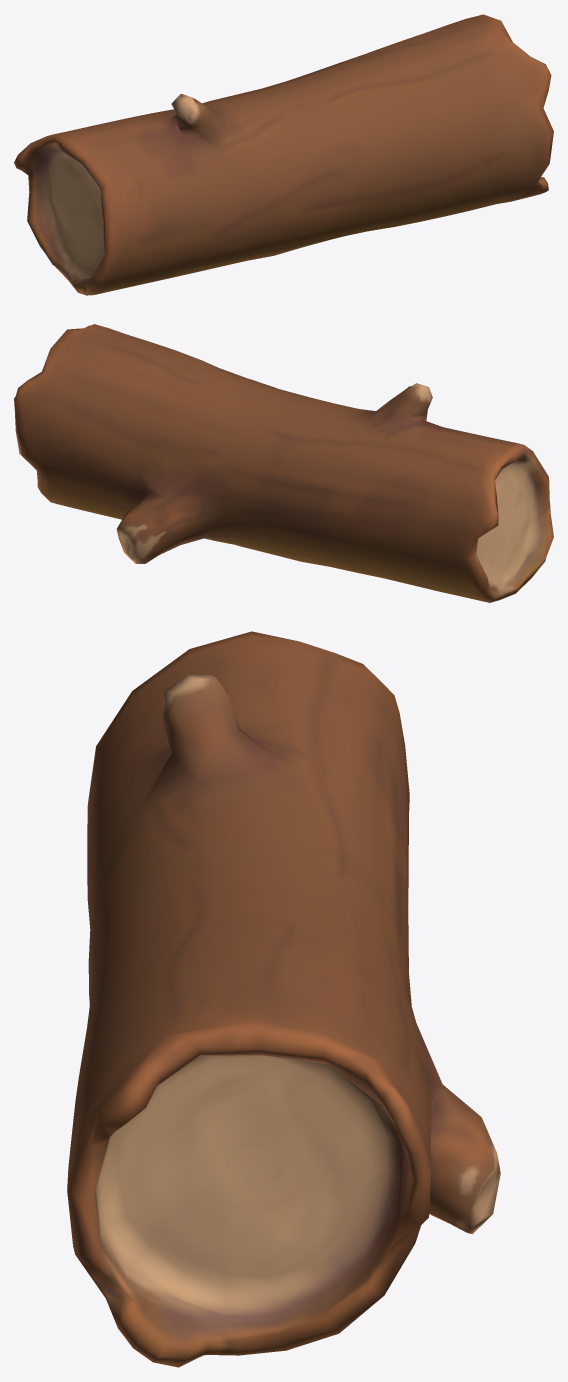
The model's file is Log(M).fbx.
The picture shows the model from 3 angles, top to bottom: view 1: azimuth 30°, elevation 25°; view 2: azimuth 150°, elevation 25°; view 3: azimuth 270°, elevation 25°; orthographic projection. The views are drawn at different scales.
Visible parts, largest first — view 1: Cylinder1; view 2: Cylinder1; view 3: Cylinder1.
Part boxes in pixels (box(x1,y1,x2,y2)): Cylinder1: box(14, 14, 553, 295); Cylinder1: box(14, 324, 553, 602); Cylinder1: box(67, 631, 500, 1367).
Size of the model in its own units: 350 by 128 by 138.
